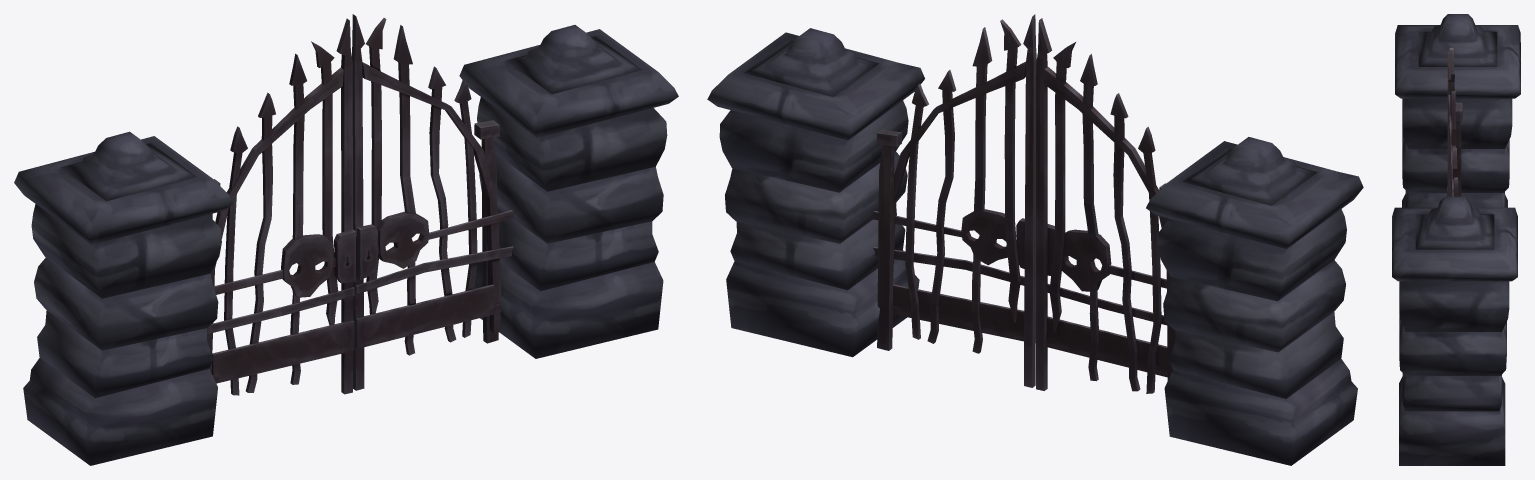
The model's file is fance_gate_02.fbx.
3 renders of one model, left to right at view 1: azimuth 30°, elevation 25°; view 2: azimuth 150°, elevation 25°; view 3: azimuth 270°, elevation 25°, orthographic. The views are drawn at different scales.
Parts seen in each view (by area): view 1: fance_gate_02; view 2: fance_gate_02; view 3: fance_gate_02.
Boxes of the visible parts, x1=… form: fance_gate_02: x1=14, y1=14, x2=678, y2=465; fance_gate_02: x1=707, y1=14, x2=1363, y2=465; fance_gate_02: x1=1392, y1=14, x2=1520, y2=465.
Size of the model in its own units: 522 by 318 by 117.
